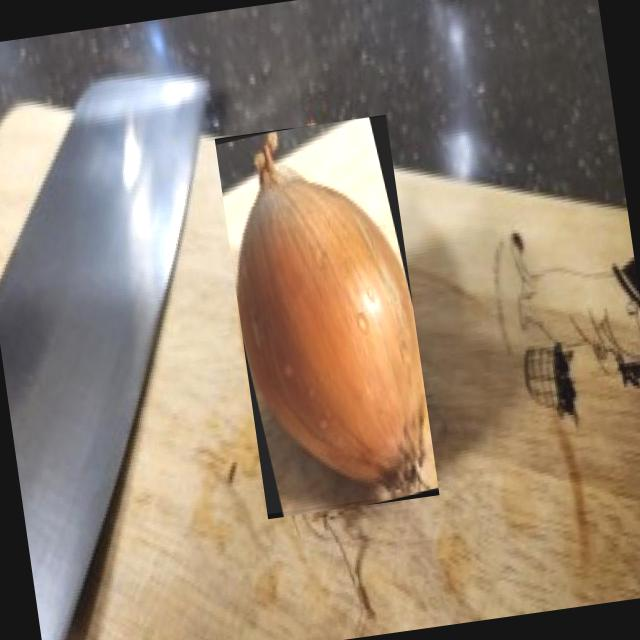healthy: (237, 132, 424, 495)
